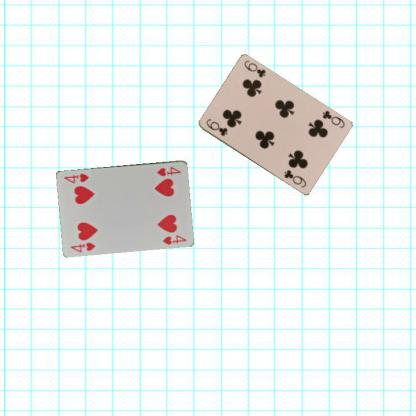4h: (68, 239, 97, 253), (154, 164, 182, 177)
6c: (203, 116, 229, 138), (320, 108, 346, 129)
